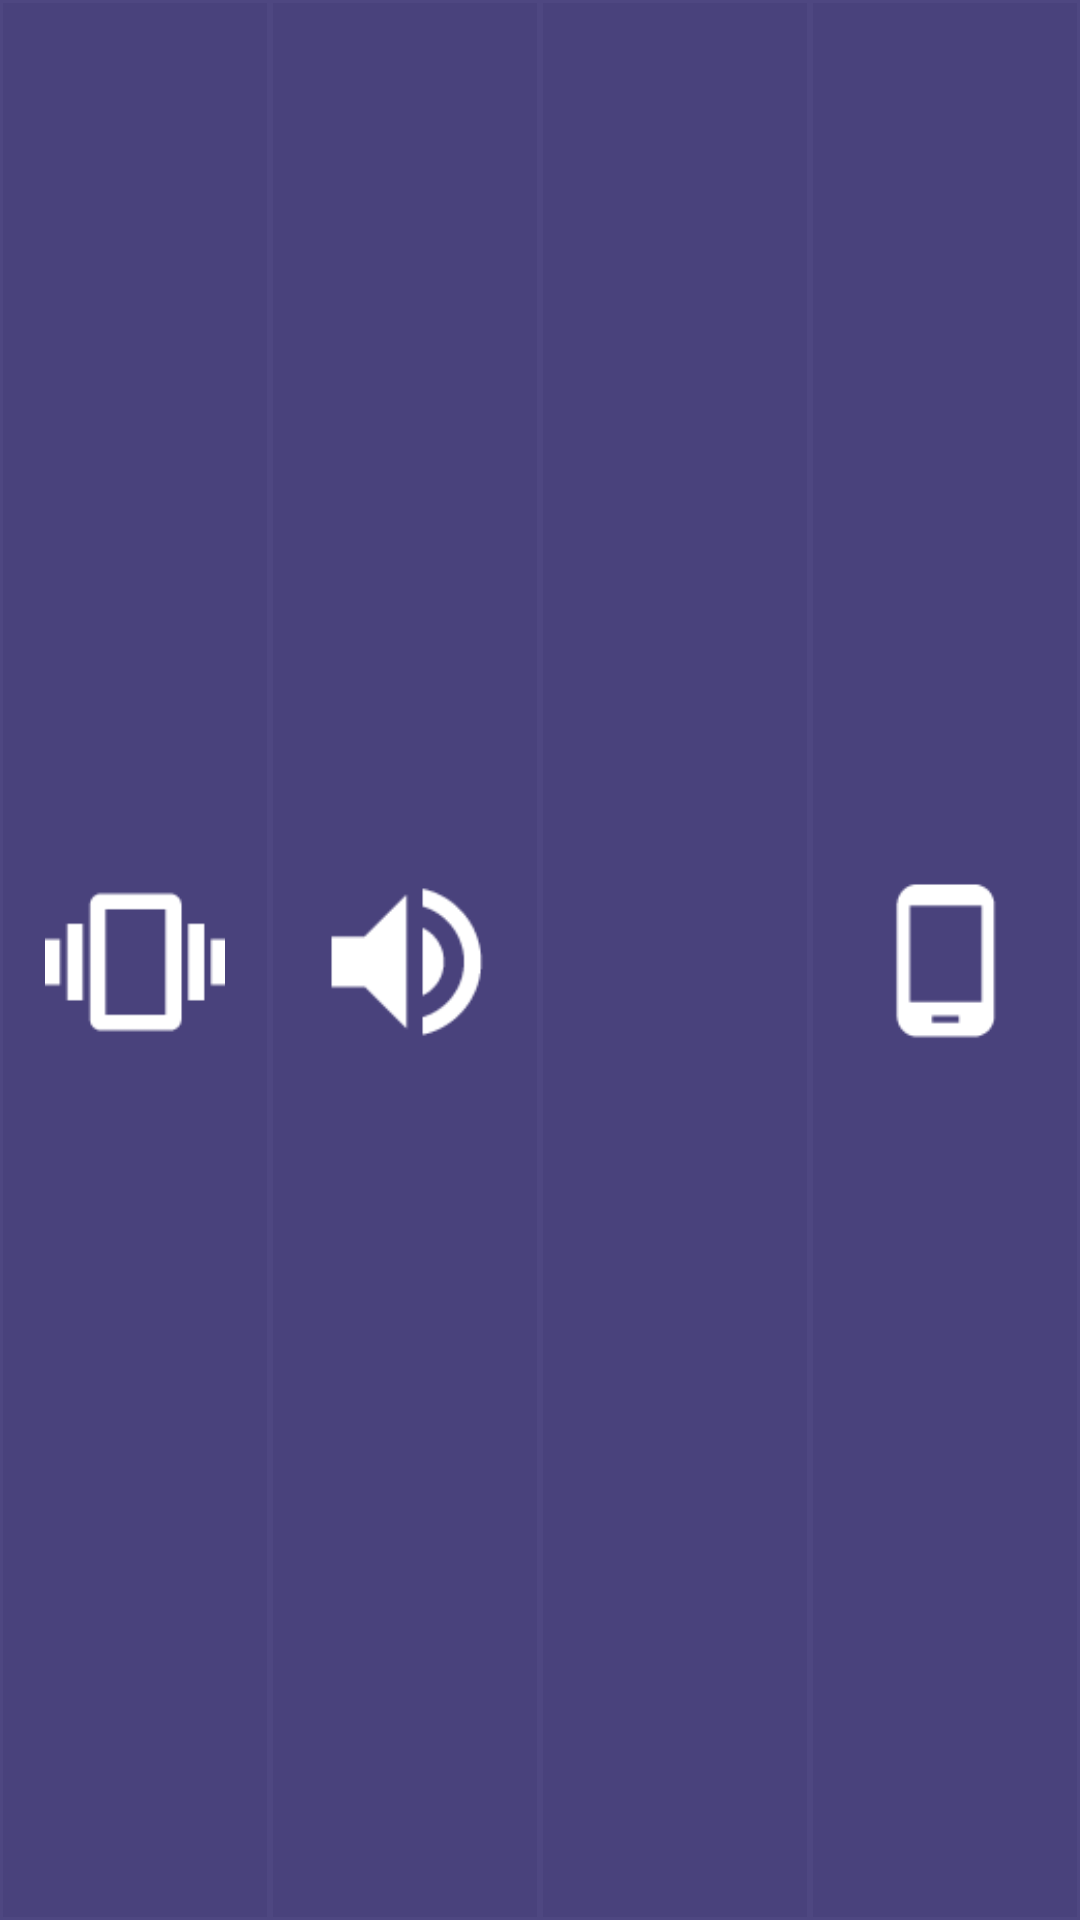

Icon bounding boxes for this 1080*1920 phone screenshot, format (x1, y1, x2, y2):
screen on: (896, 884, 995, 1038)
sound on: (331, 888, 482, 1036)
vib on: (45, 892, 225, 1032)
